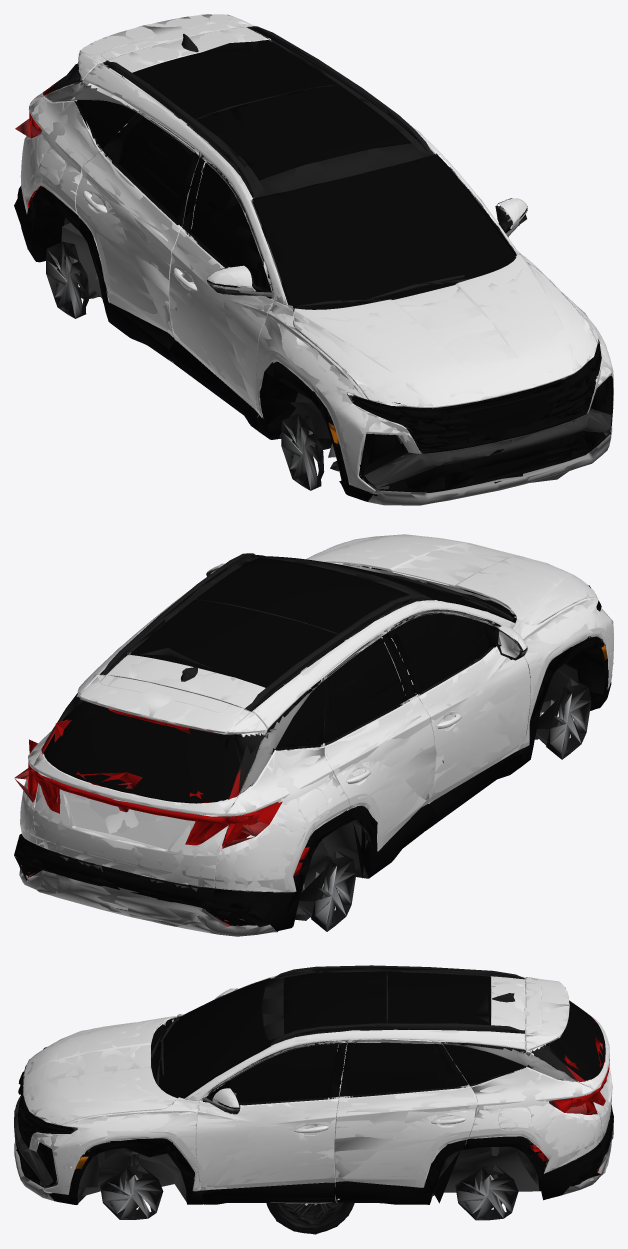
The model's file is suv6.glb.
3 views of the same model, one above another, from view 1: azimuth 30°, elevation 25°; view 2: azimuth 150°, elevation 25°; view 3: azimuth 270°, elevation 25° (orthographic). The views are drawn at different scales.
Parts seen in each view (by area): view 1: body0, body1, body2; view 2: body0, body1, body2; view 3: body0, body1, body2, wheel0, wheel1.
Part boxes in pixels (x1,y1,x2,y2): body0: [17, 14, 613, 504]; body1: [18, 14, 613, 505]; body2: [14, 14, 613, 497]; body0: [16, 536, 613, 935]; body1: [16, 536, 613, 936]; body2: [14, 534, 613, 932]; body0: [14, 965, 613, 1207]; body1: [14, 966, 613, 1204]; body2: [14, 972, 613, 1220]; wheel0: [266, 1202, 354, 1233]; wheel1: [274, 1202, 354, 1234].
Size of the model in its own units: 2.14 by 2.01 by 4.64.
